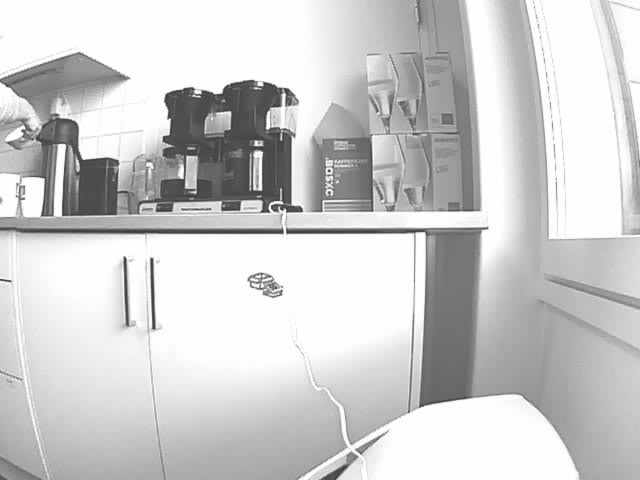not empty coffee: (162, 145, 217, 199), (223, 141, 275, 194)
